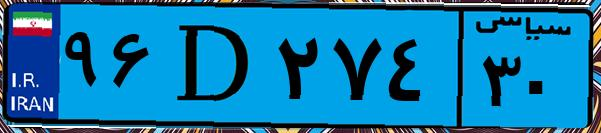0: (525, 38, 570, 115)
2: (270, 28, 330, 110)
3: (475, 38, 525, 113)
4: (385, 28, 445, 110)
6: (110, 28, 158, 98)
7: (330, 28, 385, 110)
9: (57, 26, 110, 100)
D: (158, 12, 270, 120)
